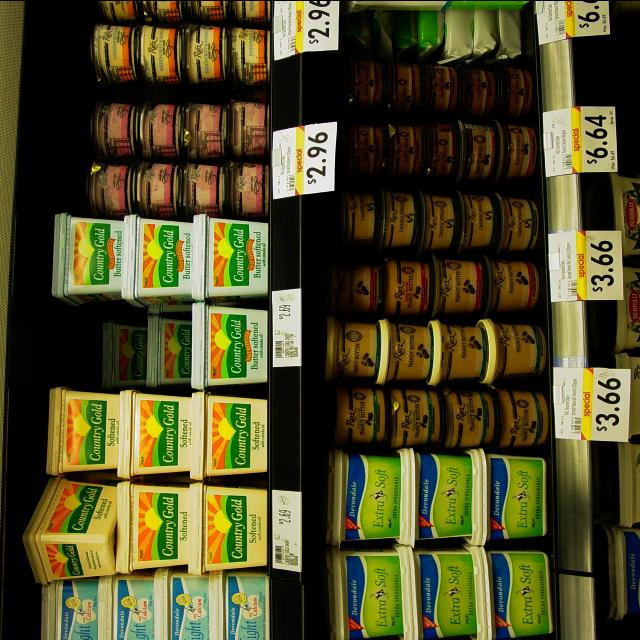empty_space: (27, 302, 105, 378)
